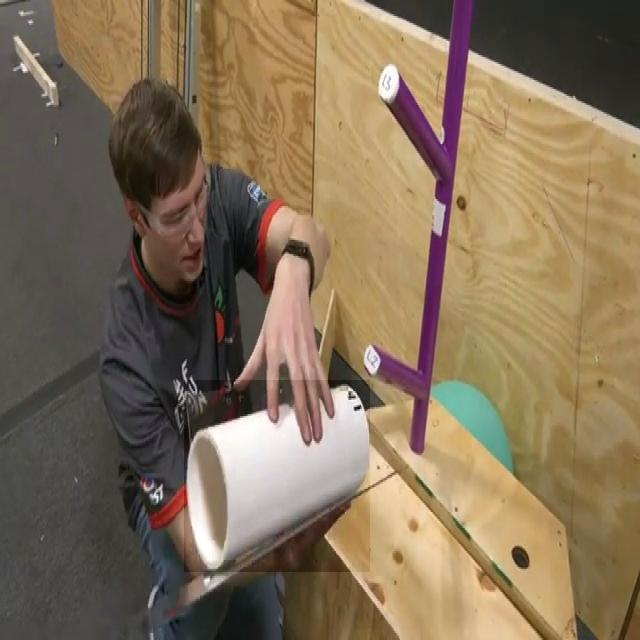Coral: (184, 380, 370, 572)
